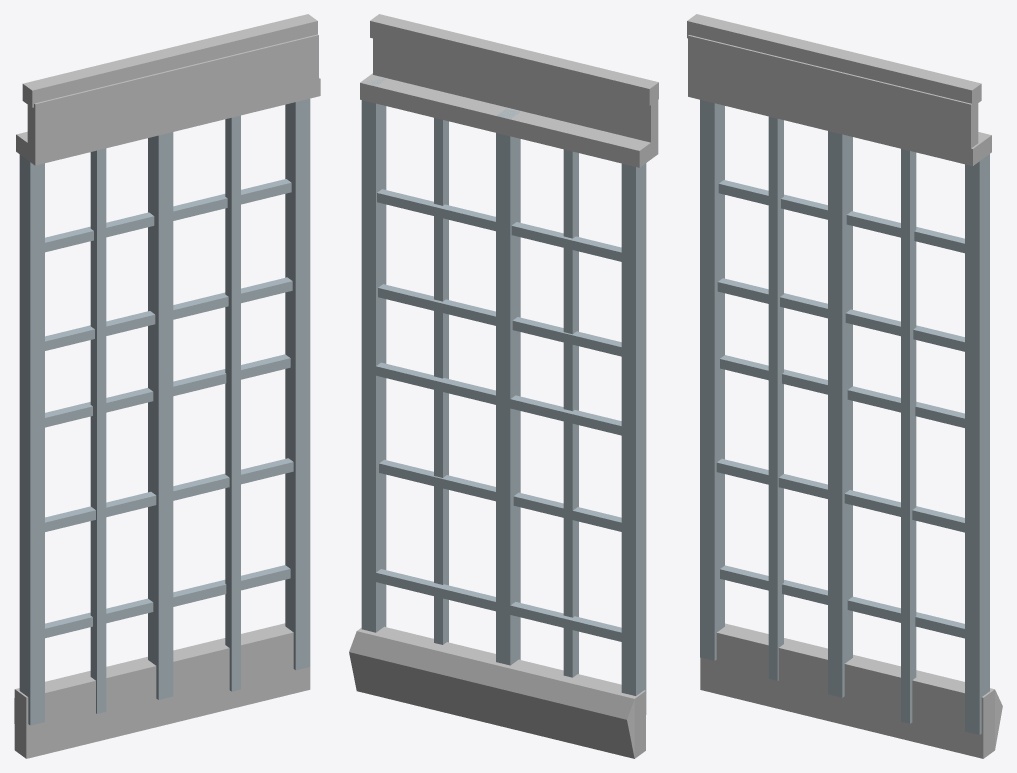
File: Windows.glb
The picture shows the model from 3 angles, left to right: view 1: azimuth 30°, elevation 25°; view 2: azimuth 150°, elevation 25°; view 3: azimuth 330°, elevation 25°; orthographic projection. The views are drawn at different scales.
Parts seen in each view (by area): view 1: group1372142122, group1477893277, group756619420, group2009387338, group891053398, group189963458, group1330374380, group1171990507, group1277853603, group1076957322, group926789000, group1791355106 (+2 smaller); view 2: group1372142122, group1477893277, group756619420, group891053398, group2009387338, group1277853603, group1171990507, group189963458, group1330374380, group1791355106, group787002348, group1175033814 (+2 smaller); view 3: group1372142122, group756619420, group2009387338, group891053398, group1477893277, group1330374380, group189963458, group1171990507, group1277853603, group1076957322, group926789000, group1791355106 (+2 smaller).
Boxes of the visible parts, x1,y1,x2,y2 form: group1372142122: [14, 623, 310, 758]; group1477893277: [19, 154, 44, 725]; group756619420: [285, 98, 310, 670]; group2009387338: [27, 34, 318, 152]; group891053398: [148, 132, 173, 699]; group189963458: [90, 148, 106, 713]; group1330374380: [225, 115, 240, 691]; group1171990507: [22, 14, 317, 107]; group1277853603: [16, 78, 320, 165]; group1076957322: [45, 458, 293, 531]; group926789000: [45, 277, 292, 350]; group1791355106: [21, 179, 291, 256]; group1372142122: [349, 626, 645, 758]; group1477893277: [621, 163, 646, 714]; group756619420: [361, 78, 386, 632]; group891053398: [496, 108, 520, 665]; group2009387338: [373, 38, 658, 145]; group1277853603: [360, 73, 658, 167]; group1171990507: [370, 14, 658, 105]; group189963458: [563, 149, 578, 677]; group1330374380: [434, 118, 448, 644]; group1791355106: [377, 189, 642, 265]; group787002348: [376, 362, 633, 435]; group1175033814: [376, 569, 621, 641]; group1372142122: [700, 623, 1002, 758]; group756619420: [965, 154, 989, 734]; group2009387338: [688, 35, 978, 150]; group891053398: [828, 131, 852, 697]; group1477893277: [700, 99, 724, 660]; group1330374380: [901, 149, 916, 723]; group189963458: [768, 116, 783, 680]; group1171990507: [687, 14, 981, 107]; group1277853603: [688, 80, 991, 166]; group1076957322: [716, 458, 964, 532]; group926789000: [717, 278, 964, 351]; group1791355106: [718, 180, 964, 253].
Size of the model in its own units: 1.59 by 3.53 by 0.25.
